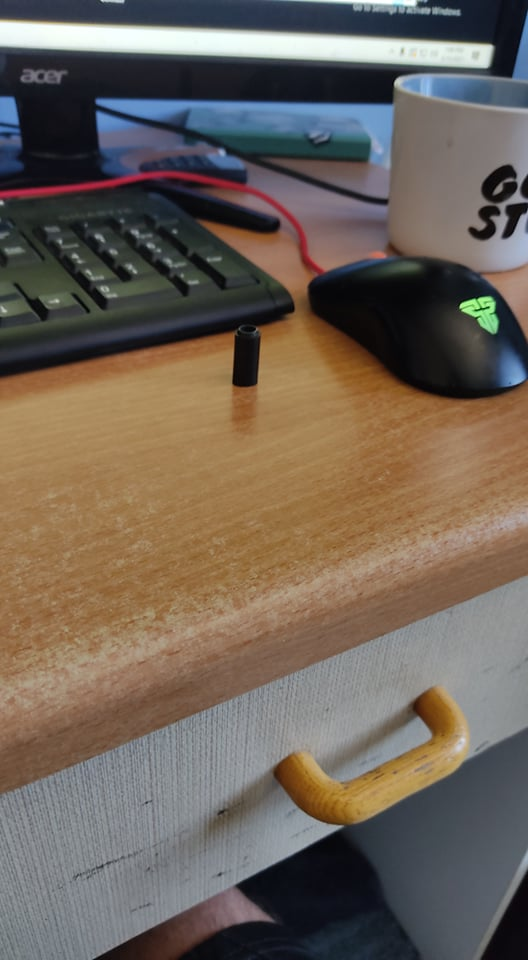black_bucking: (218, 311, 269, 392)
